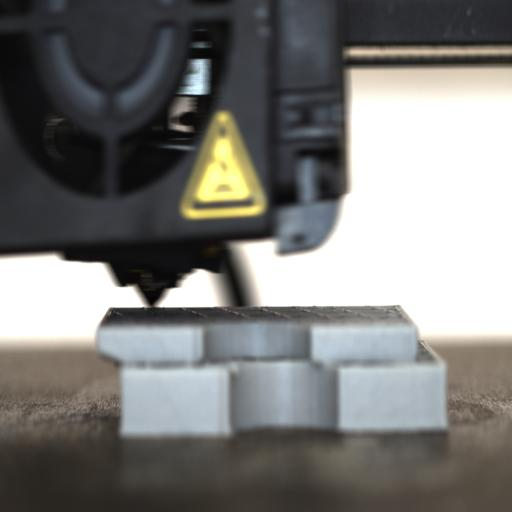layer_shift: (98, 345, 448, 370)
